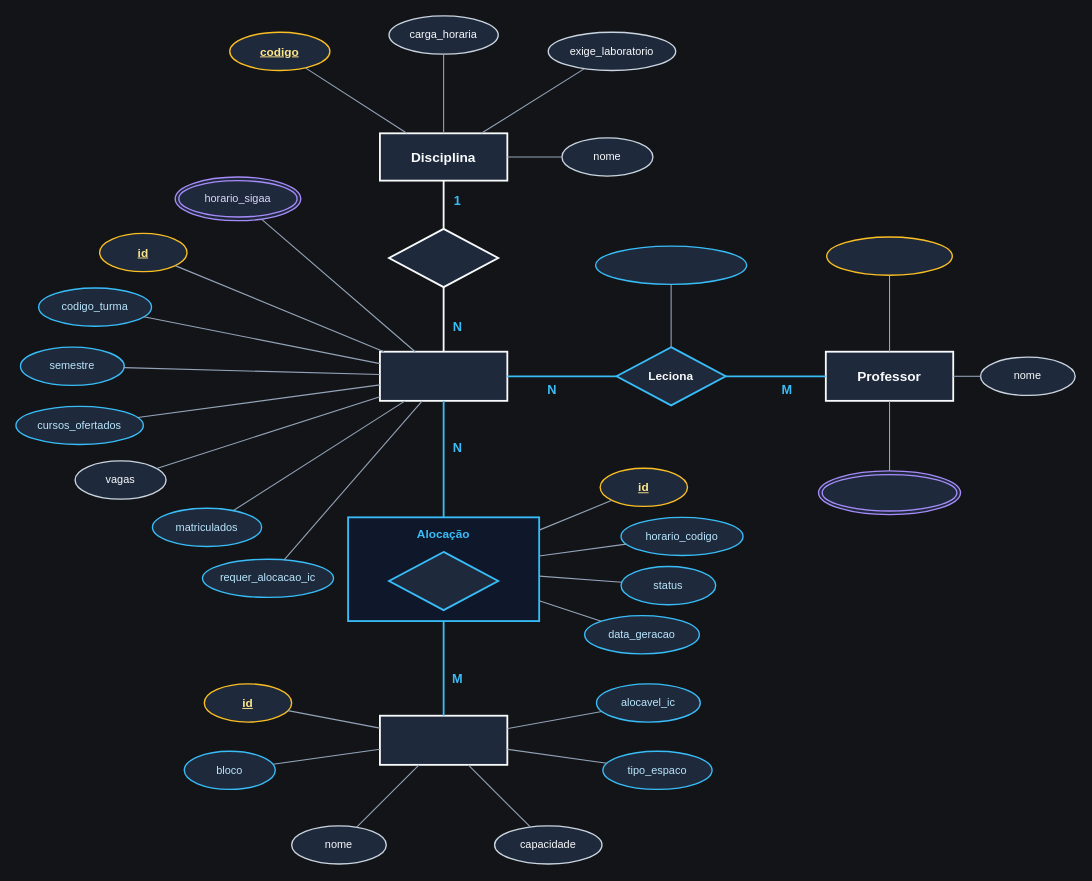
Some shapes in this 1092 by 881 pixel diagram are drawn without their labels. The centre of each missing label's shape, as x and y in pixels:
"carga_horaria_docente" belongs at (x=671, y=265).
"matricula_siape" belongs at (x=889, y=256).
"Possui" belongs at (x=443, y=258).
"restricoes_horario" belongs at (x=889, y=492).
"Sala" belongs at (x=443, y=739).
"Turma" belongs at (x=443, y=375).
"Utiliza" belongs at (x=443, y=581).
